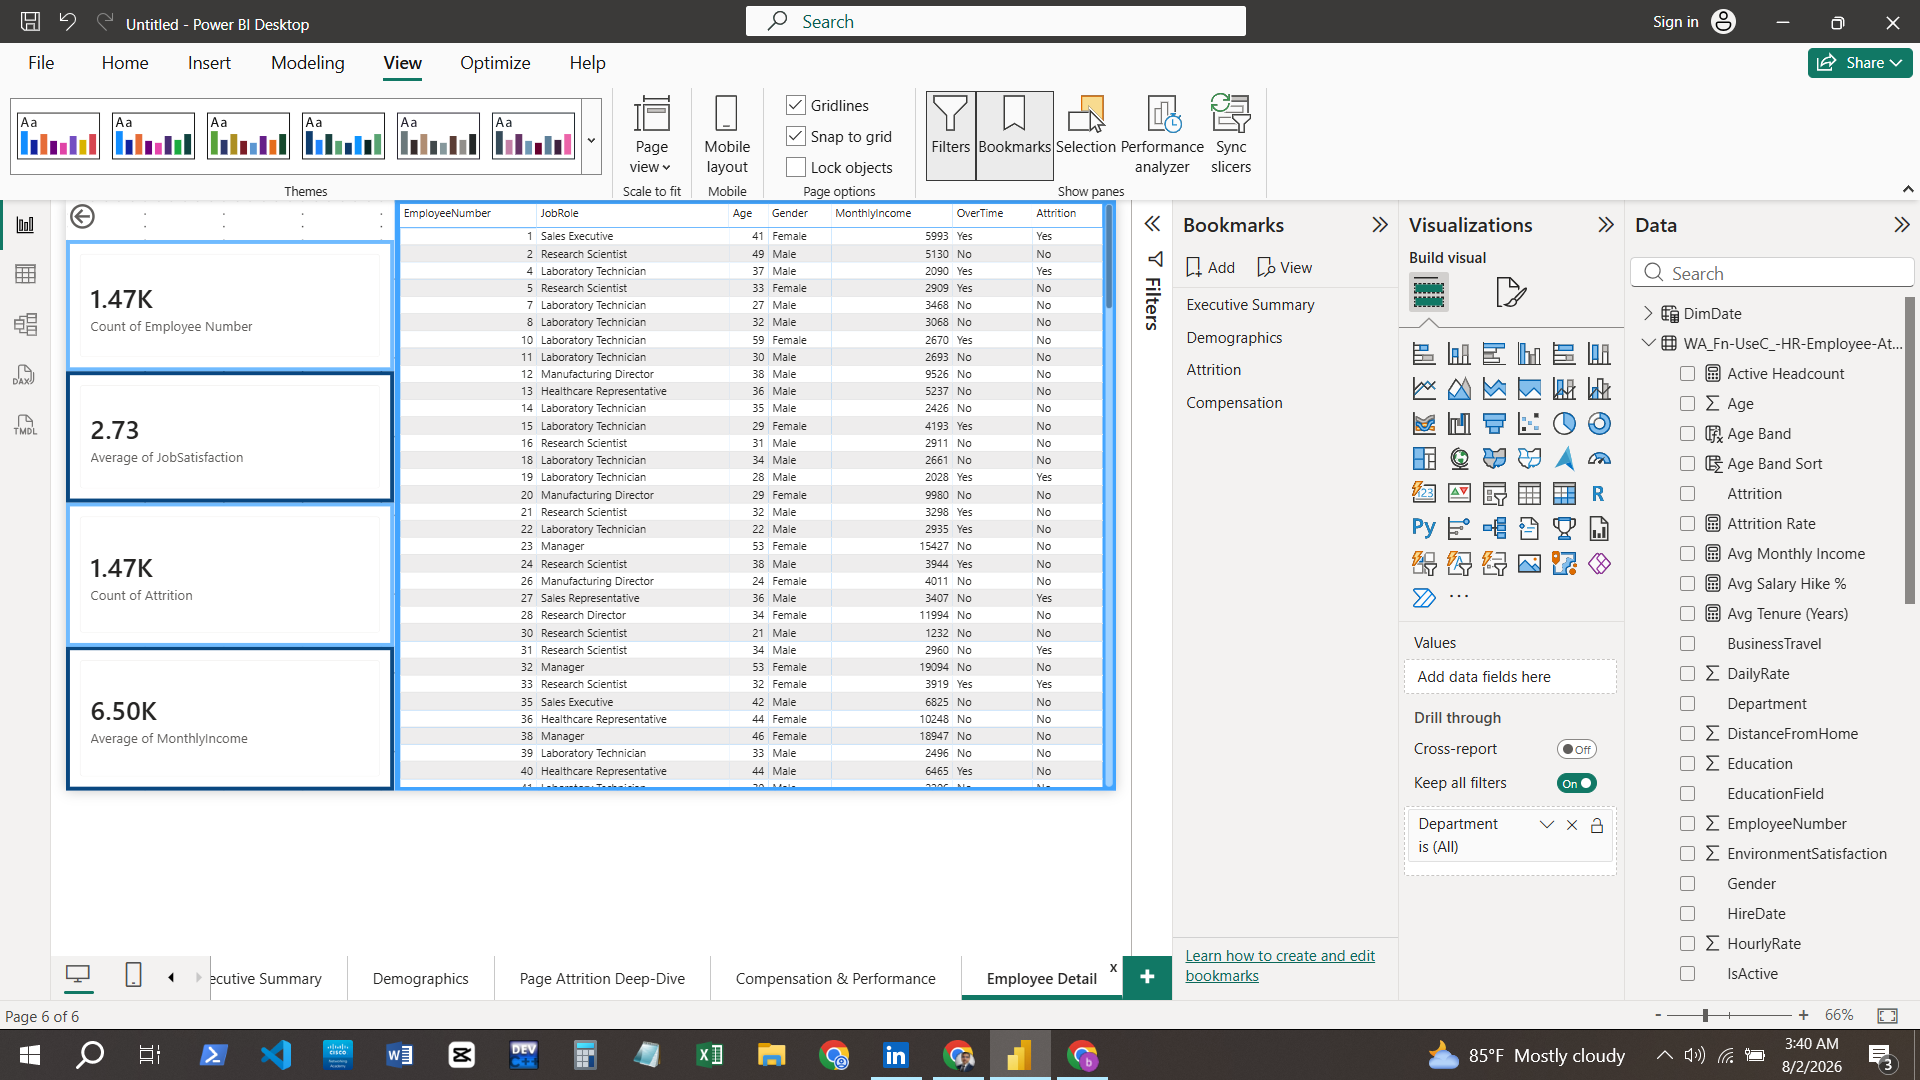

The page's visual inventory and layout, read from the dashboard file:
{"tool":"powerbi","page":{"name":"Employee Detail","canvas":[1280,720],"ordinal":4},"visuals":[{"type":"actionButton","box":[0,0,100,40],"z":0},{"type":"cardVisual","fields":{"Data":["CountNonNull(WA_Fn-UseC_-HR-Employee-Attrition.EmployeeNumber)"]},"box":[0,48,400,160],"z":1000},{"type":"cardVisual","fields":{"Data":["Avg(WA_Fn-UseC_-HR-Employee-Attrition.MonthlyIncome)"]},"box":[0,544,400,176],"z":2000},{"type":"cardVisual","fields":{"Data":["CountNonNull(WA_Fn-UseC_-HR-Employee-Attrition.Attrition)"]},"box":[0,368,400,176],"z":3000},{"type":"cardVisual","fields":{"Data":["Avg(WA_Fn-UseC_-HR-Employee-Attrition.JobSatisfaction)"]},"box":[0,208,400,160],"z":4000},{"type":"tableEx","fields":{"Values":["WA_Fn-UseC_-HR-Employee-Attrition.EmployeeNumber","WA_Fn-UseC_-HR-Employee-Attrition.JobRole","WA_Fn-UseC_-HR-Employee-Attrition.Age","WA_Fn-UseC_-HR-Employee-Attrition.Gender","WA_Fn-UseC_-HR-Employee-Attrition.MonthlyIncome","WA_Fn-UseC_-HR-Employee-Attrition.OverTime","WA_Fn-UseC_-HR-Employee-Attrition.Attrition"]},"box":[400,0,880,720],"z":5000}]}

Visuals, with their boxes on the page's 1280x720 design canvas (x1, y1, x2, y2). These are canvas units, not pixel positions in the 1920x1080 screenshot, which may show the page scaled, cropped or inside an application window:
actionButton: 0,0,100,40
cardVisual - CountNonNull(WA_Fn-UseC_-HR-Employee-Attrition.EmployeeNumber): 0,48,400,208
cardVisual - Avg(WA_Fn-UseC_-HR-Employee-Attrition.MonthlyIncome): 0,544,400,720
cardVisual - CountNonNull(WA_Fn-UseC_-HR-Employee-Attrition.Attrition): 0,368,400,544
cardVisual - Avg(WA_Fn-UseC_-HR-Employee-Attrition.JobSatisfaction): 0,208,400,368
tableEx - WA_Fn-UseC_-HR-Employee-Attrition.EmployeeNumber x WA_Fn-UseC_-HR-Employee-Attrition.JobRole: 400,0,1280,720
